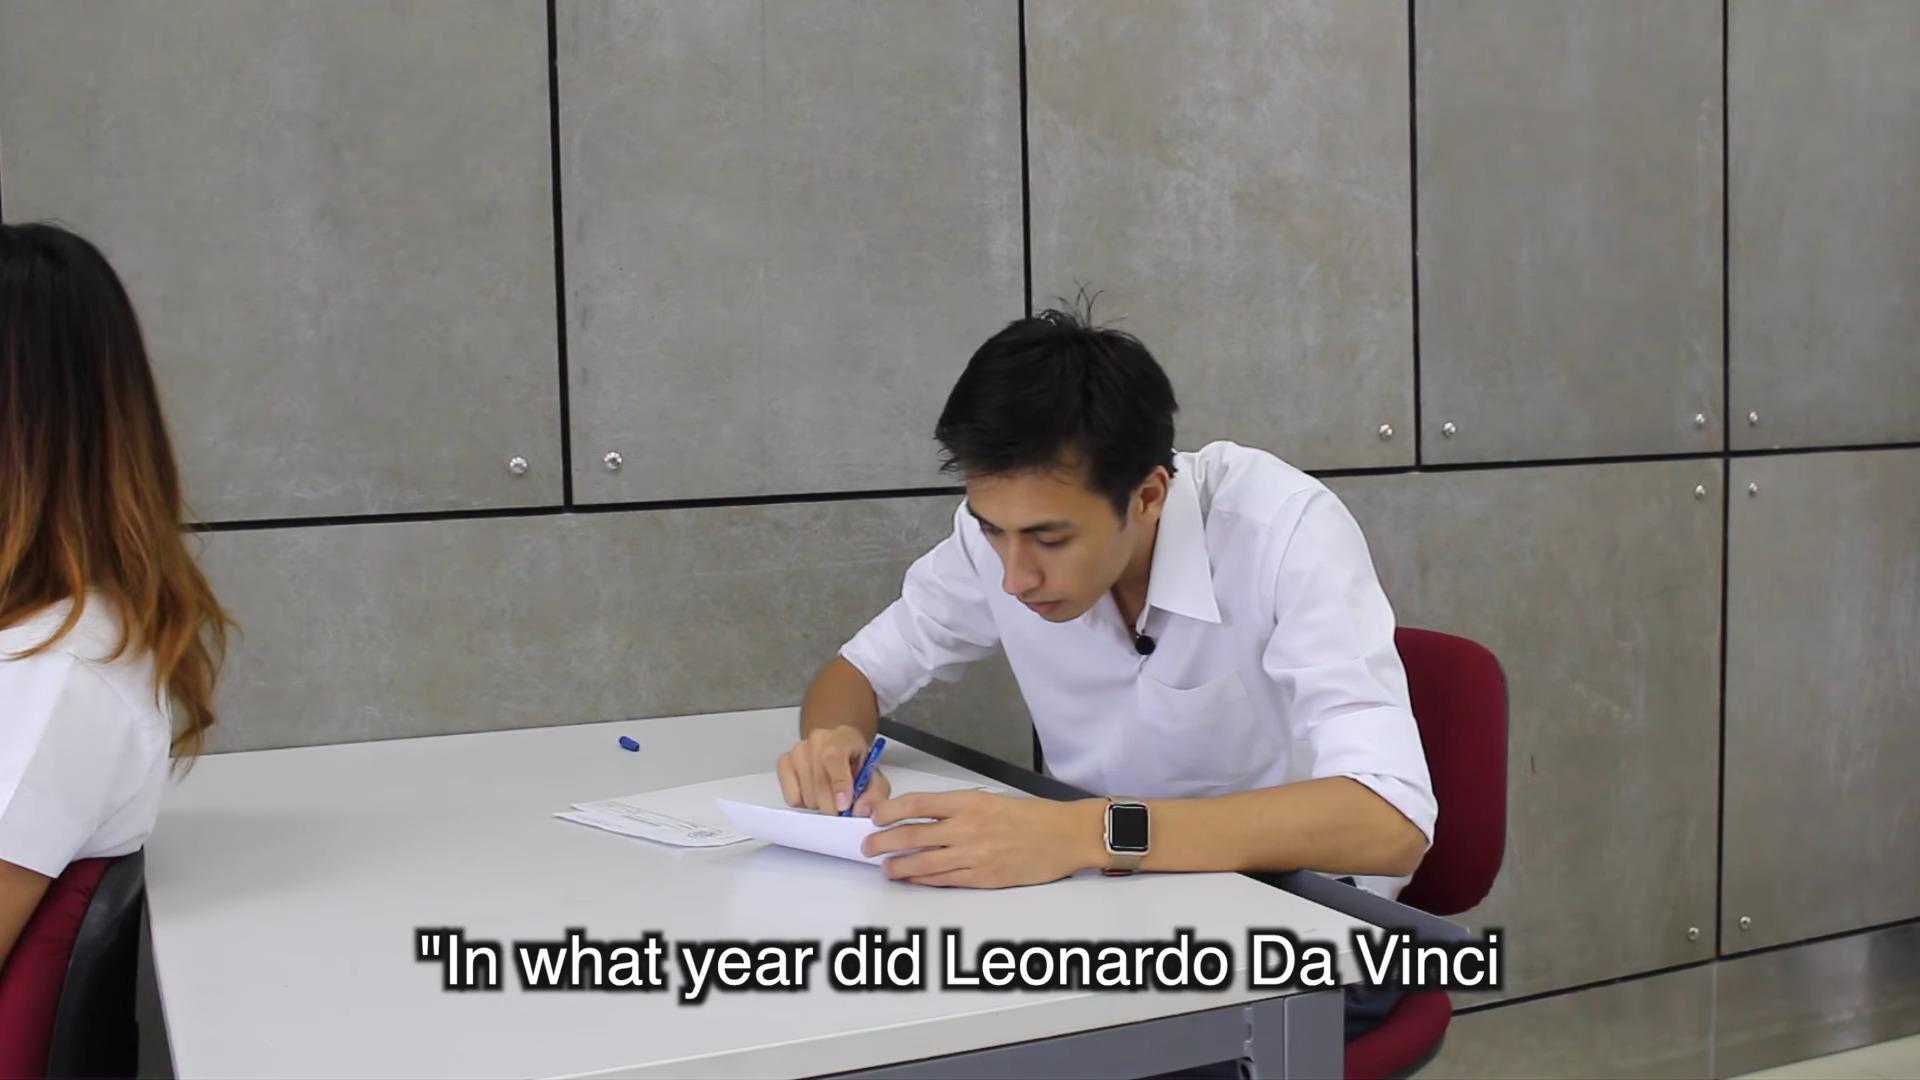good: (516, 262, 1476, 907)
